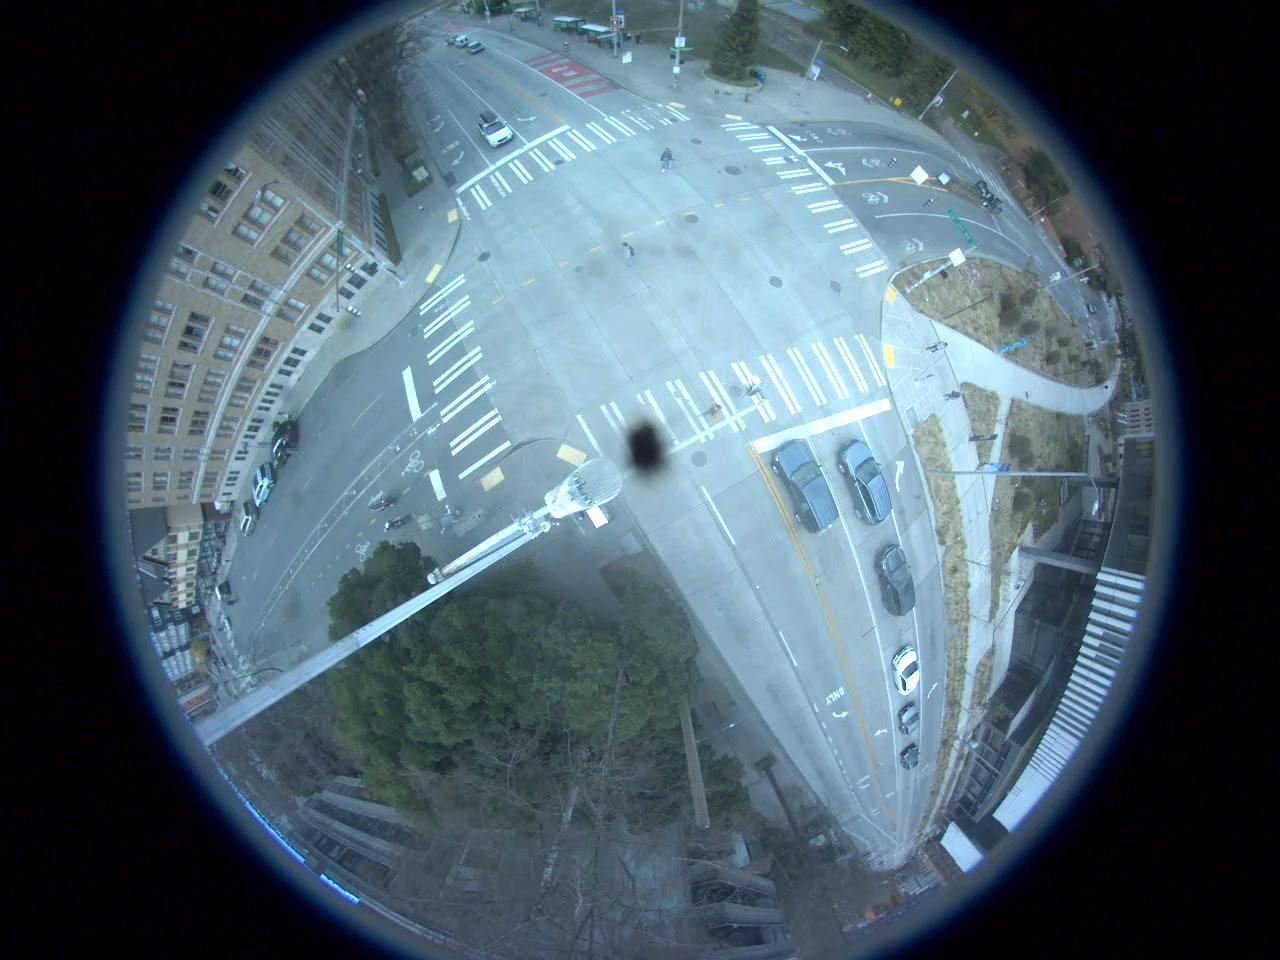bicycle: (384, 516, 418, 532), (364, 499, 398, 511)
car: (773, 436, 839, 532), (835, 437, 887, 524), (875, 544, 917, 614), (269, 416, 296, 468), (248, 459, 276, 509), (894, 643, 920, 694), (478, 112, 512, 148), (238, 502, 261, 540), (900, 700, 919, 736), (900, 744, 920, 772)
person: (618, 239, 646, 276), (696, 404, 730, 422), (656, 144, 674, 172), (924, 338, 949, 356), (944, 388, 966, 404)
